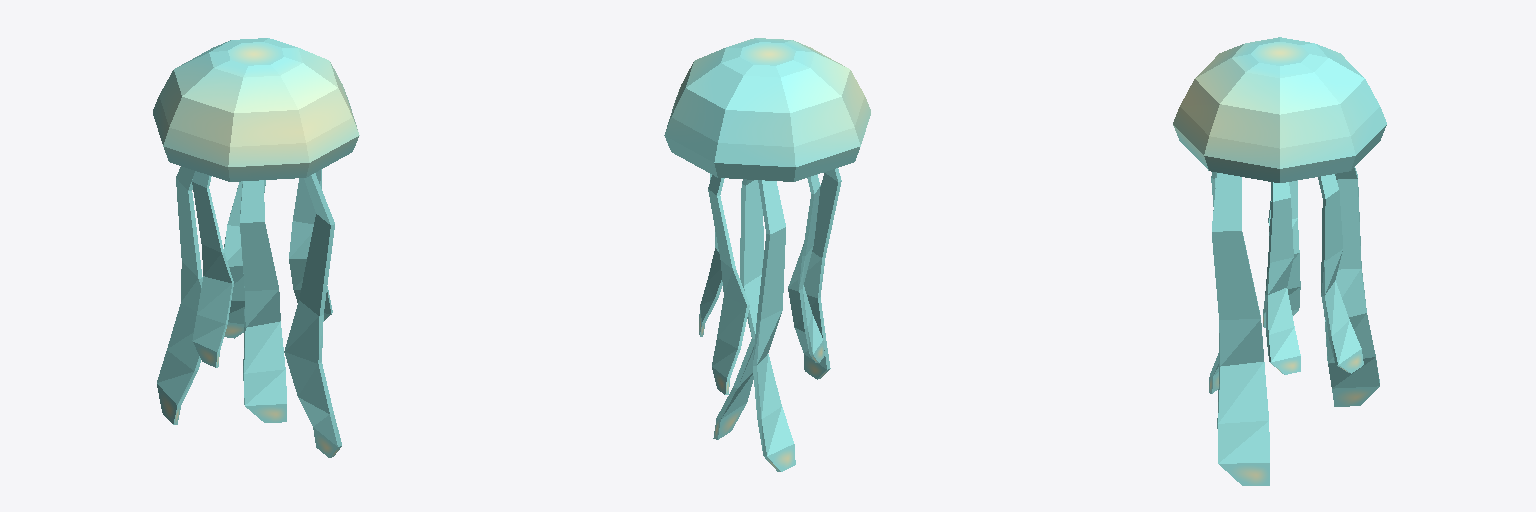
The picture shows the model from 3 angles: view 1: azimuth 30°, elevation 25°; view 2: azimuth 150°, elevation 25°; view 3: azimuth 270°, elevation 25°; orthographic projection.
Visible parts, largest first — view 1: Top, tenticle006, tenticle007, tenticle004, tenticle2, tenticle003, tenticle005; view 2: Top, tenticle004, tenticle007, tenticle005, tenticle006, tenticle2, tenticle003; view 3: Top, tenticle007, tenticle004, tenticle003, tenticle005, tenticle2.
Boxes of the visible parts, x1=… form: Top: x1=153, y1=38, x2=359, y2=181; tenticle006: x1=240, y1=180, x2=286, y2=422; tenticle007: x1=284, y1=173, x2=341, y2=457; tenticle004: x1=157, y1=166, x2=202, y2=424; tenticle2: x1=192, y1=171, x2=233, y2=367; tenticle003: x1=289, y1=169, x2=332, y2=320; tenticle005: x1=224, y1=180, x2=265, y2=338; Top: x1=664, y1=38, x2=870, y2=181; tenticle004: x1=753, y1=180, x2=795, y2=471; tenticle007: x1=713, y1=179, x2=763, y2=439; tenticle005: x1=708, y1=175, x2=749, y2=394; tenticle006: x1=788, y1=168, x2=841, y2=379; tenticle2: x1=798, y1=174, x2=824, y2=362; tenticle003: x1=699, y1=174, x2=722, y2=336; Top: x1=1173, y1=37, x2=1386, y2=182; tenticle007: x1=1212, y1=173, x2=1269, y2=485; tenticle004: x1=1324, y1=167, x2=1379, y2=406; tenticle003: x1=1265, y1=182, x2=1300, y2=374; tenticle005: x1=1318, y1=174, x2=1363, y2=373; tenticle2: x1=1263, y1=180, x2=1300, y2=327.
Bounding box in the file's own units: 7.23 × 15.02 × 7.23.
1 materials, 1 textured.